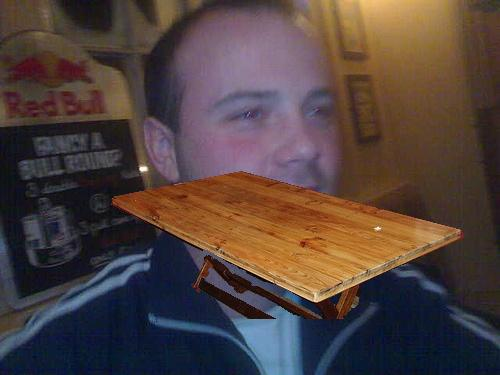tampered: (112, 172, 464, 319)
